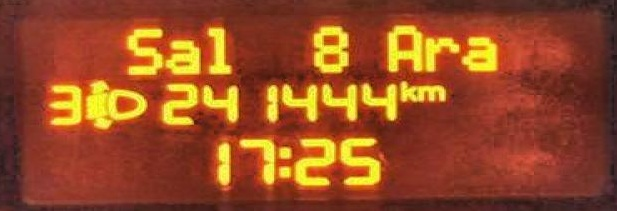1: (209, 136, 234, 186), (252, 81, 278, 123)
2: (155, 77, 202, 127), (292, 134, 333, 187)
3: (40, 81, 80, 126)
4: (278, 78, 317, 121), (359, 79, 395, 125), (200, 80, 237, 124), (320, 79, 357, 122)
5: (337, 134, 382, 187)
7: (234, 133, 275, 186)
8: (304, 24, 355, 74)
X: (379, 20, 424, 75), (122, 22, 162, 78), (204, 22, 235, 77), (163, 34, 202, 77), (460, 31, 499, 72), (424, 32, 459, 73), (275, 139, 292, 182), (417, 82, 448, 101), (395, 77, 417, 102)
